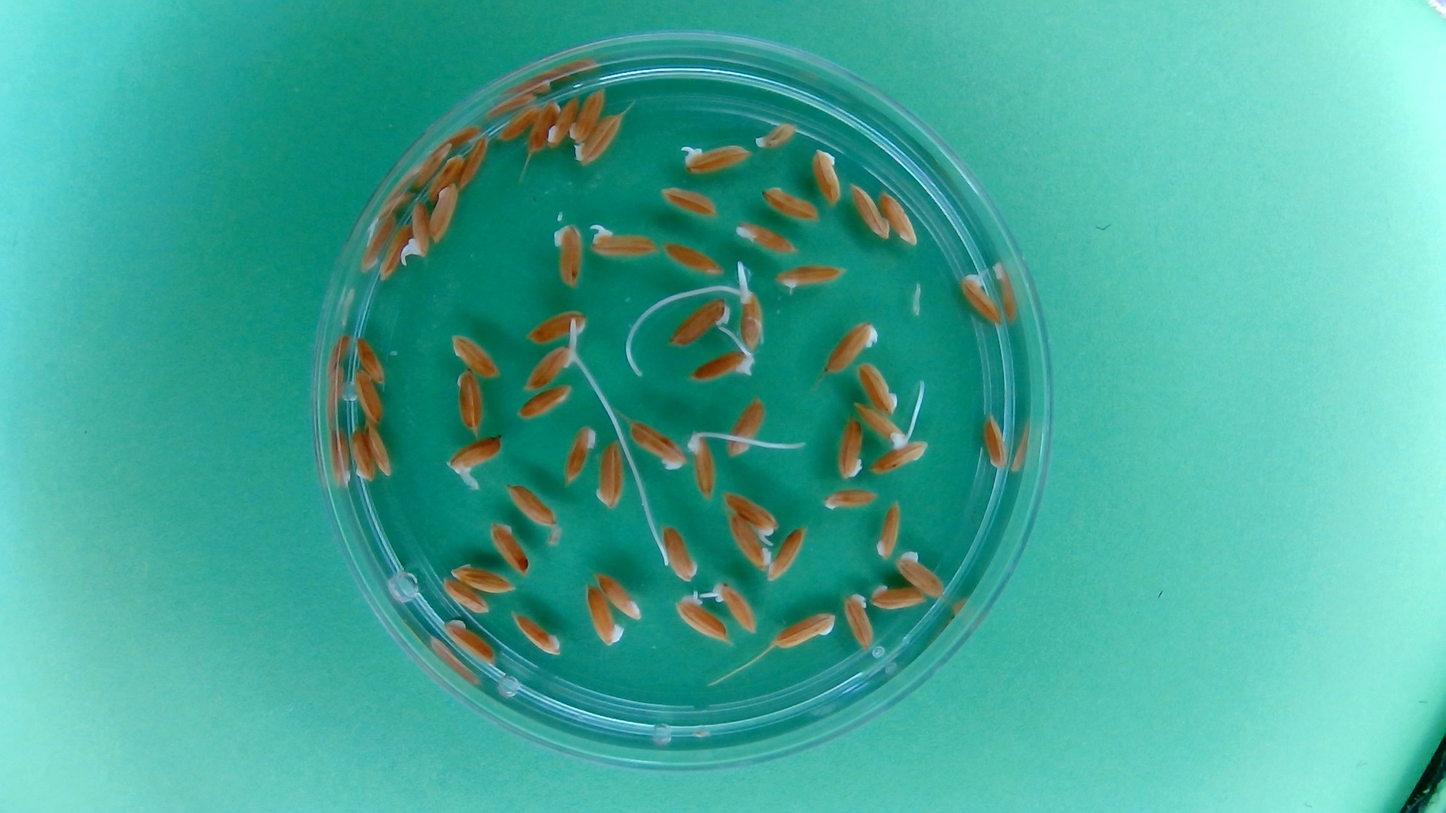no: (822, 319, 879, 376), (628, 418, 688, 471), (674, 592, 731, 646), (573, 110, 626, 166), (441, 617, 498, 668), (582, 581, 625, 648), (956, 269, 1004, 328), (874, 187, 920, 248), (893, 548, 948, 599), (721, 489, 778, 537), (847, 180, 891, 242), (448, 330, 502, 380), (771, 611, 839, 650), (509, 610, 563, 659), (487, 519, 531, 577), (594, 569, 643, 620), (505, 480, 557, 528), (761, 184, 822, 224), (447, 433, 505, 475), (766, 525, 808, 583), (856, 360, 900, 415), (551, 221, 586, 290), (561, 422, 599, 485), (453, 366, 487, 436), (660, 522, 699, 583), (424, 151, 468, 204), (427, 180, 462, 246), (568, 87, 608, 144), (517, 382, 574, 422), (729, 400, 767, 459), (594, 440, 626, 510), (447, 562, 517, 594), (734, 220, 798, 255), (349, 366, 385, 428), (663, 241, 725, 276), (809, 145, 844, 206), (377, 221, 412, 282), (526, 95, 562, 154), (841, 591, 875, 653), (658, 184, 718, 219), (439, 576, 491, 616), (496, 99, 543, 142), (545, 92, 581, 148), (870, 440, 929, 474), (457, 133, 491, 191), (835, 415, 865, 480), (981, 411, 1011, 473), (867, 581, 929, 611), (353, 333, 387, 387), (347, 424, 377, 485), (874, 501, 904, 561), (365, 421, 395, 480), (778, 265, 846, 289), (753, 120, 801, 152), (821, 488, 879, 512)
yes: (668, 297, 730, 349), (725, 513, 774, 571), (520, 344, 576, 393), (679, 139, 754, 175), (853, 403, 910, 449), (588, 224, 658, 259), (525, 309, 590, 346), (689, 348, 756, 383), (711, 580, 756, 632), (686, 429, 717, 499), (402, 198, 432, 260), (735, 286, 764, 350)
